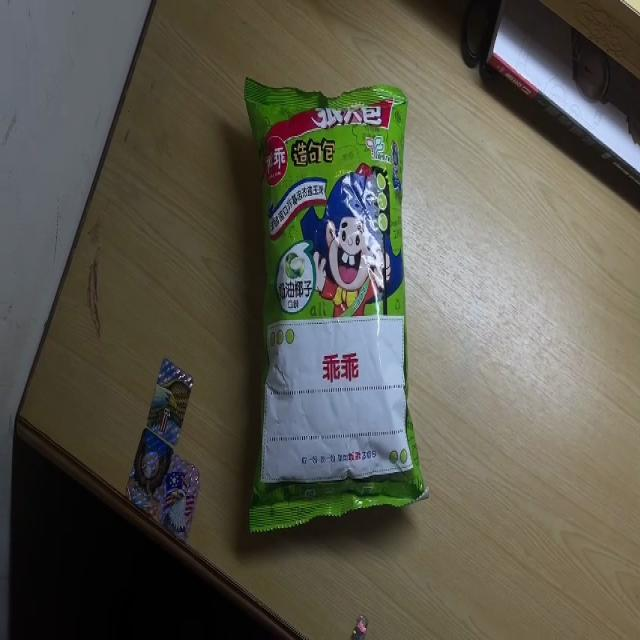Good-Luck: (242, 74, 429, 536)
